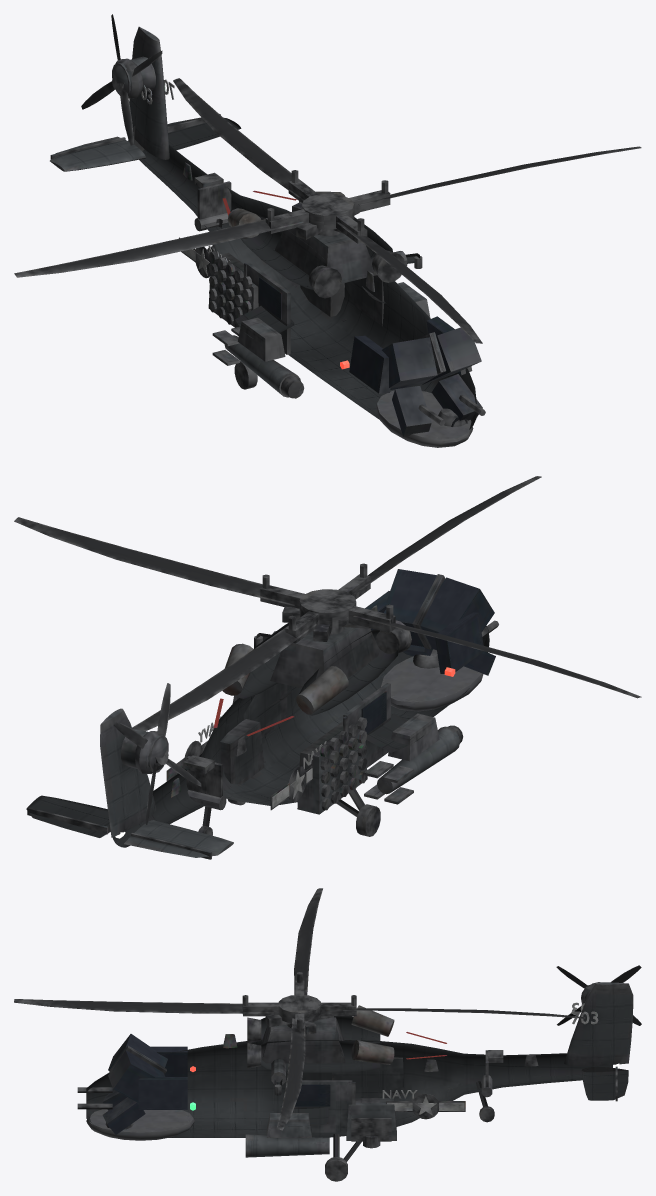
File: aircraft_mh60.glb
3 renders of one model, top to bottom at view 1: azimuth 30°, elevation 25°; view 2: azimuth 150°, elevation 25°; view 3: azimuth 270°, elevation 25°, orthographic. The views are drawn at different scales.
Visible parts, largest first — view 1: mh60_body, rotor, mh60_detail, tailrotor; view 2: mh60_body, rotor, mh60_detail, tailrotor; view 3: mh60_body, rotor, mh60_detail, tailrotor.
Part boxes in pixels (left/top/right/bottom): mh60_body: left=50, top=26, right=482, bottom=447; rotor: left=14, top=78, right=641, bottom=343; mh60_detail: left=50, top=79, right=485, bottom=426; tailrotor: left=81, top=14, right=162, bottom=145; mh60_body: left=26, top=569, right=495, bottom=857; rotor: left=14, top=476, right=641, bottom=731; mh60_detail: left=27, top=605, right=498, bottom=859; tailrotor: left=113, top=683, right=201, bottom=824; mh60_body: left=86, top=982, right=633, bottom=1181; rotor: left=14, top=888, right=585, bottom=1130; mh60_detail: left=77, top=1002, right=619, bottom=1148; tailrotor: left=556, top=965, right=641, bottom=1025.
Bounding box in the file's own units: 16.33 × 5.9 × 17.94.
11 materials, 11 textured.
